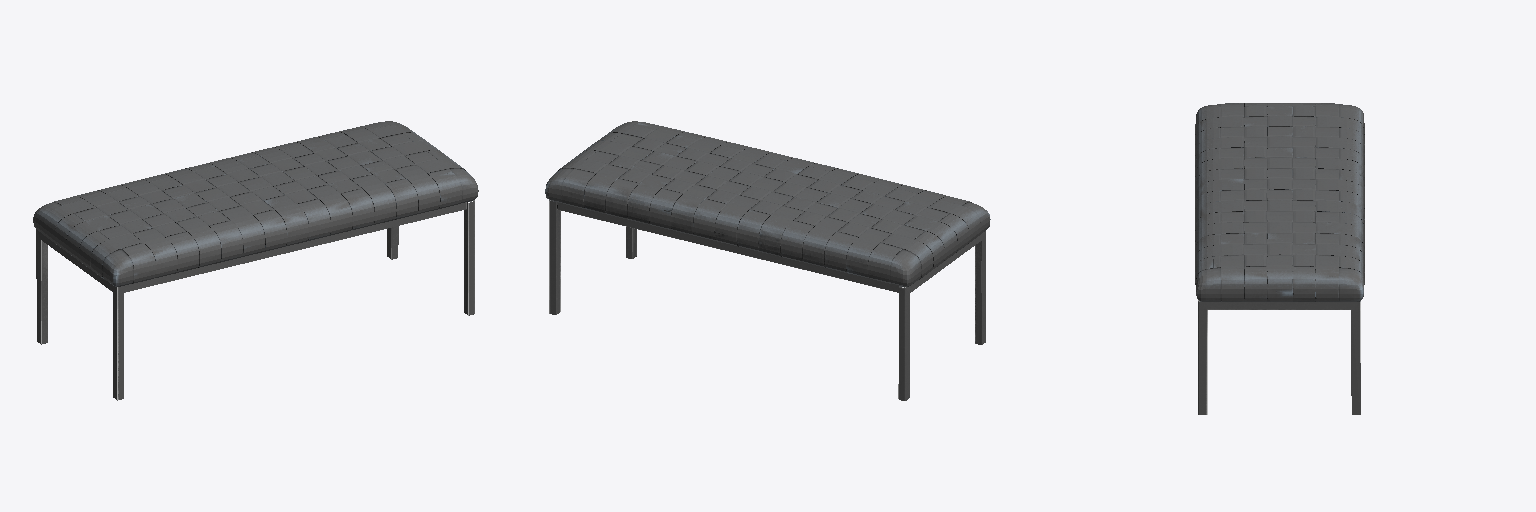
3 views of the same model, side by side, from view 1: azimuth 30°, elevation 25°; view 2: azimuth 150°, elevation 25°; view 3: azimuth 270°, elevation 25° (orthographic).
Parts seen in each view (by area): view 1: solid_002, solid_001; view 2: solid_002, solid_001; view 3: solid_002, solid_001.
Part boxes in pixels (x1,y1,x2,y2): solid_002: (33,121,478,286); solid_001: (36,200,474,400); solid_002: (545,121,990,286); solid_001: (549,200,985,400); solid_002: (1195,103,1364,301); solid_001: (1198,300,1360,414).
Size of the model in its own units: 2 by 0.7499 by 0.7979.
1 materials, 1 textured.